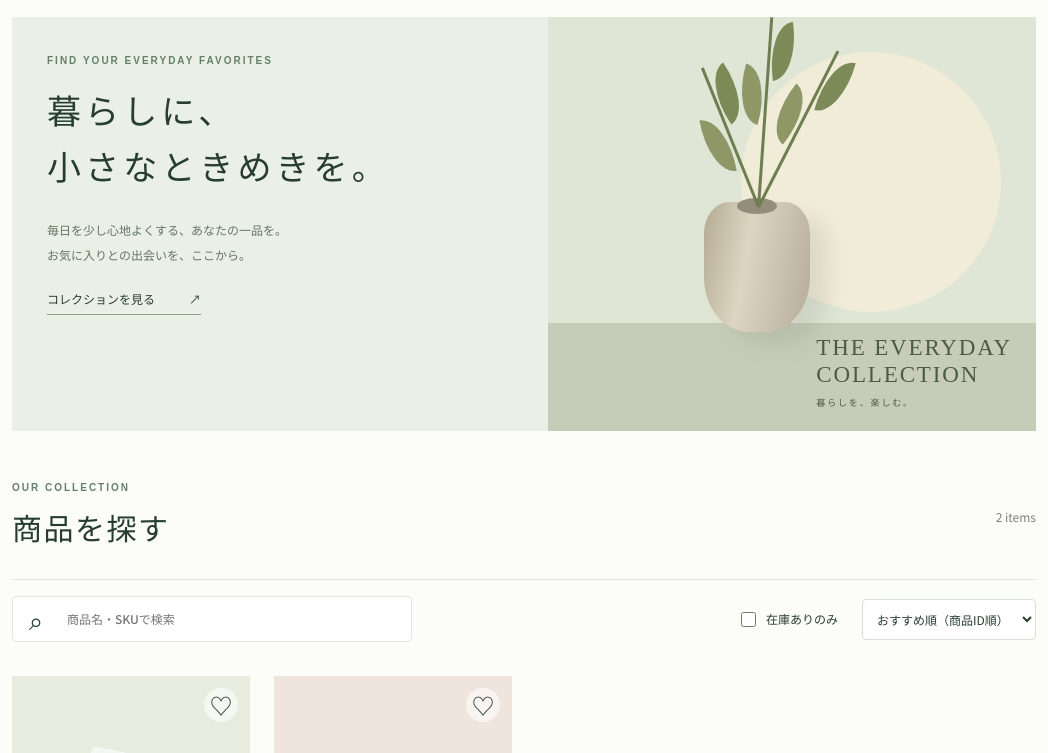
Test: EC user flows › filters products by name and stock
Step 1. Click the checkbox labelled "在庫ありのみ" → {"x": 748, "y": 619}, box [741,612,756,627]
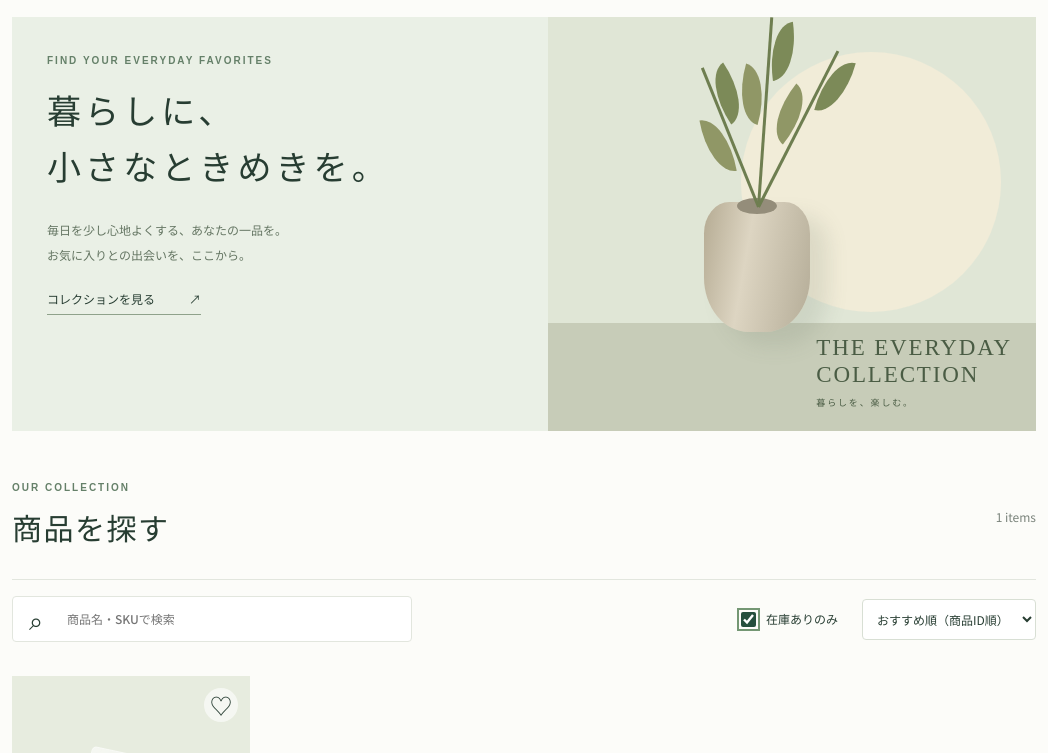
Step 2. Type "存在しない商品" into the search field → {"x": 233, "y": 619}, box [55,597,411,641]
(page scrolled)
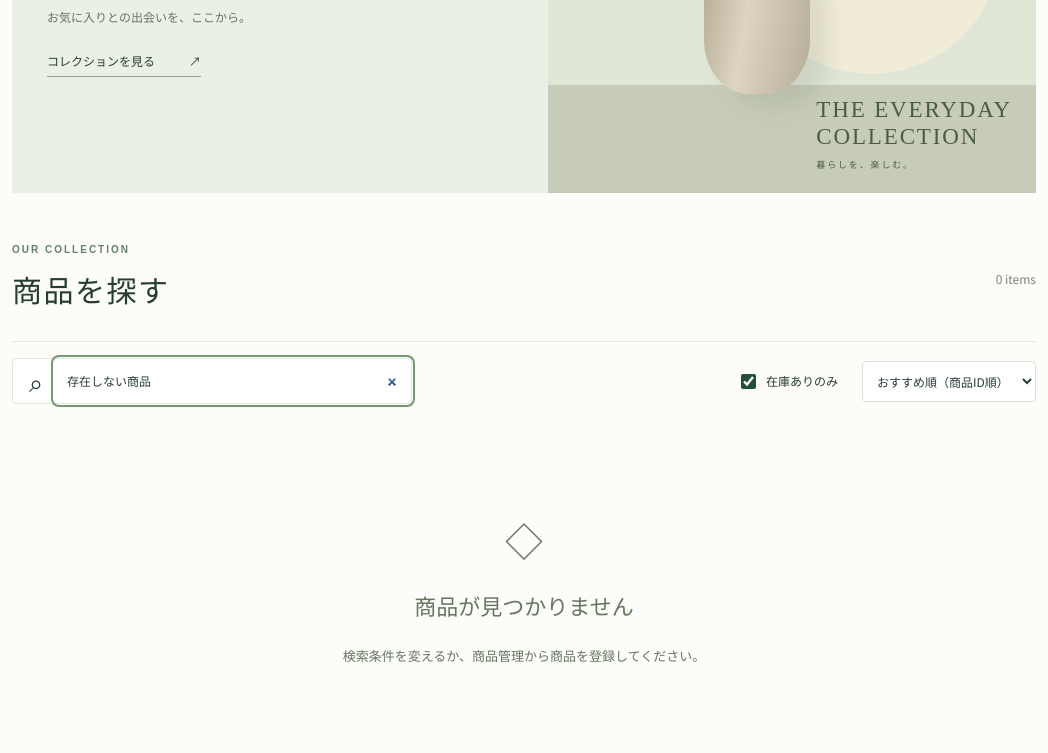
Check: the heading "商品が見つかりません" is shown, box [414,595,634,620]
